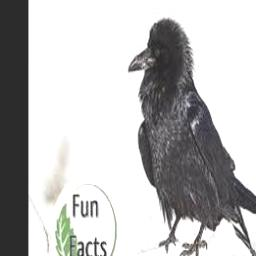Crow: (128, 18, 256, 256)
